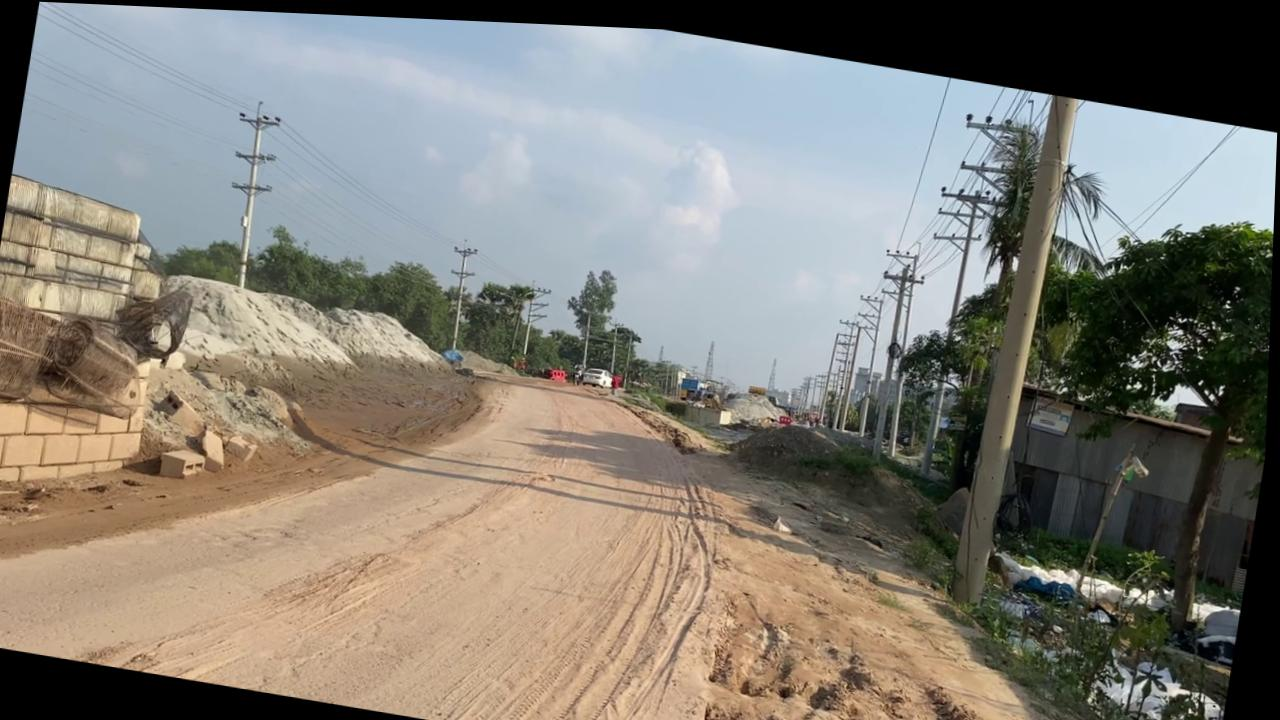Garbage: (967, 536, 1247, 720)
Obstacle: (663, 389, 736, 422), (160, 442, 211, 480)
Pole: (949, 79, 1081, 606), (215, 95, 286, 288)
Rickshaw: (561, 387, 1089, 720)
Traffic-sign: (999, 175, 1276, 634), (559, 257, 622, 366)
Tree: (547, 352, 624, 387), (678, 367, 728, 402), (511, 348, 531, 368), (551, 360, 572, 377)
Upstairs: (0, 170, 184, 513)
